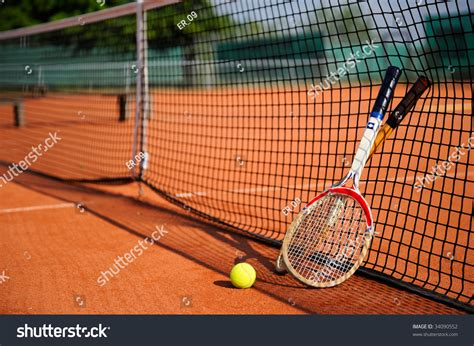tennis_ball: (230, 262, 256, 288)
